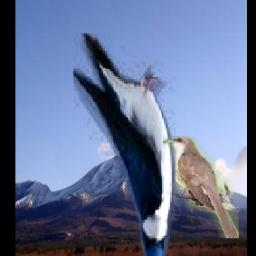Cuckoo: (163, 136, 239, 238)
Swallow: (72, 35, 175, 256)
